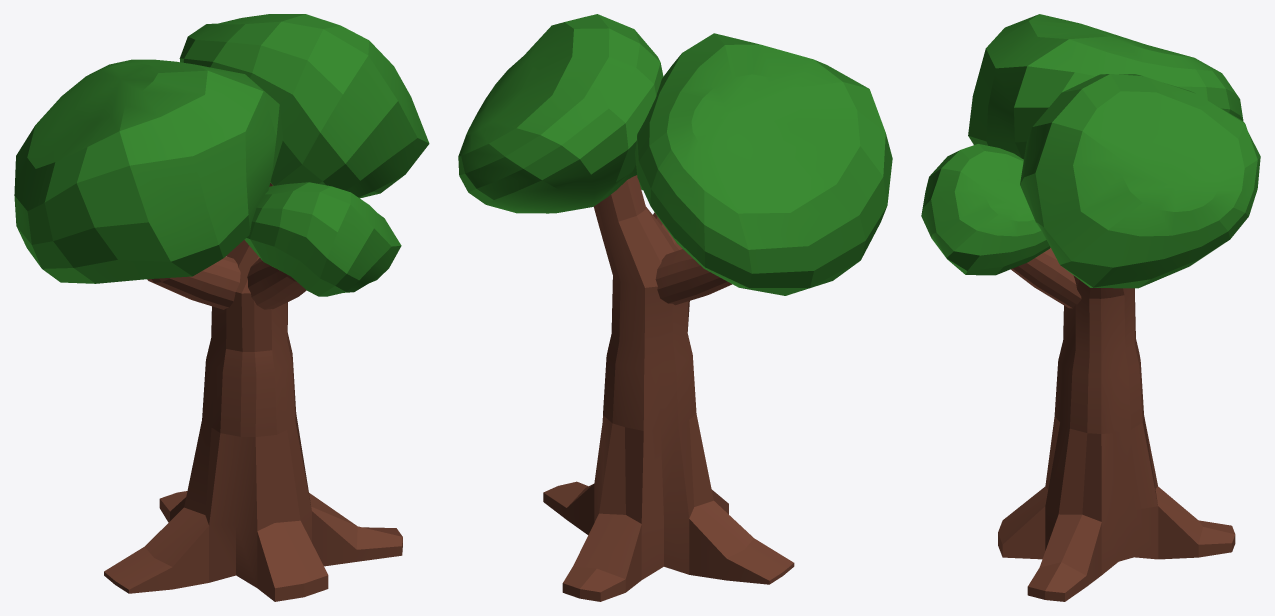
The model's file is Arvore.fbx.
3 renders of one model, left to right at view 1: azimuth 30°, elevation 25°; view 2: azimuth 150°, elevation 25°; view 3: azimuth 270°, elevation 25°, orthographic. The views are drawn at different scales.
Visible parts, largest first — view 1: Cylinder; view 2: Cylinder; view 3: Cylinder.
Part boxes in pixels (x1,y1,x2,y2): Cylinder: (14, 14, 429, 601); Cylinder: (458, 14, 892, 601); Cylinder: (921, 14, 1260, 601).
Size of the model in its own units: 459 by 600 by 375.
